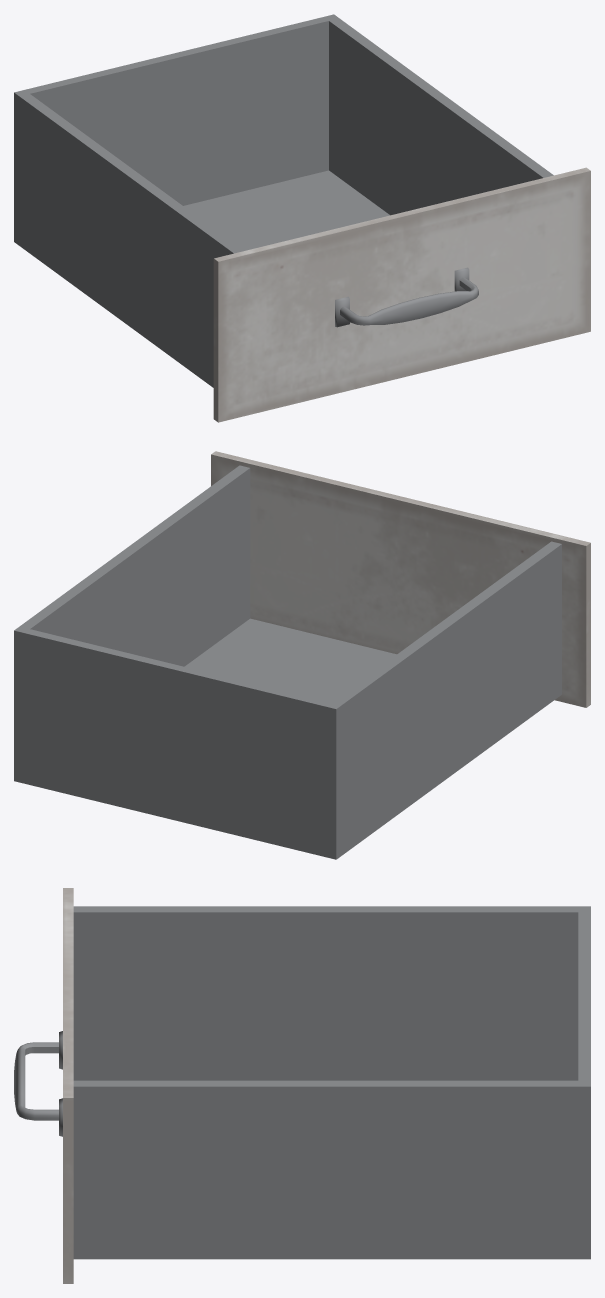
The model's file is SM_Filecabinet_03_fc3_drawer.fbx.
3 views of the same model, one above another, from view 1: azimuth 30°, elevation 25°; view 2: azimuth 150°, elevation 25°; view 3: azimuth 270°, elevation 25° (orthographic). The views are drawn at different scales.
Parts seen in each view (by area): view 1: SM_Filecabinet_03_fc3_drawer; view 2: SM_Filecabinet_03_fc3_drawer; view 3: SM_Filecabinet_03_fc3_drawer.
Part boxes in pixels (x1=…): SM_Filecabinet_03_fc3_drawer: x1=14, y1=14, x2=590, y2=422; SM_Filecabinet_03_fc3_drawer: x1=14, y1=451, x2=590, y2=859; SM_Filecabinet_03_fc3_drawer: x1=14, y1=888, x2=590, y2=1283.
Size of the model in its own units: 36.12 by 41.94 by 14.9.
1 material, 1 textured.
